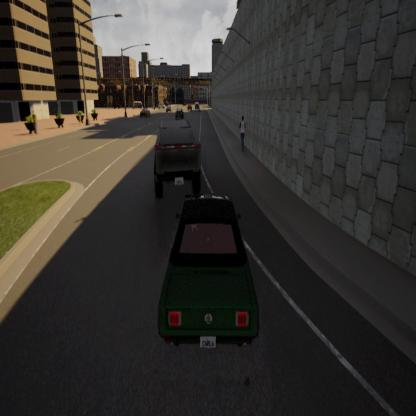Cars: (147, 190, 267, 361), (138, 113, 214, 198), (136, 107, 152, 119), (175, 107, 185, 121), (194, 101, 201, 112), (187, 101, 193, 112), (166, 106, 172, 115)
Pedestrian: (237, 112, 249, 155)
